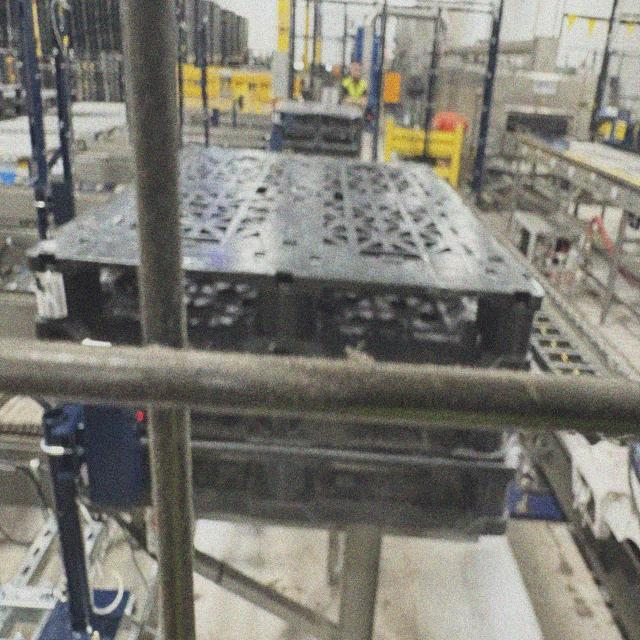igps: (17, 130, 548, 384)
